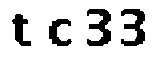3: (115, 5, 147, 50), (81, 6, 112, 48)
c: (44, 15, 74, 49)
t: (6, 13, 34, 52)
